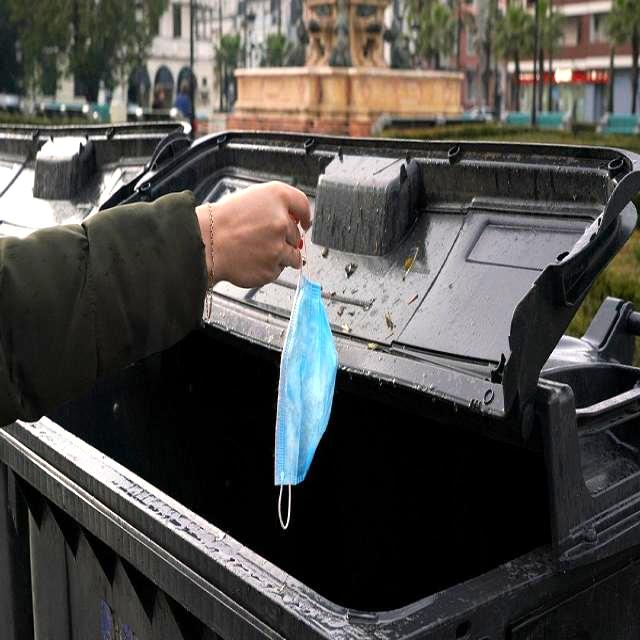Mask: (271, 226, 339, 534)
